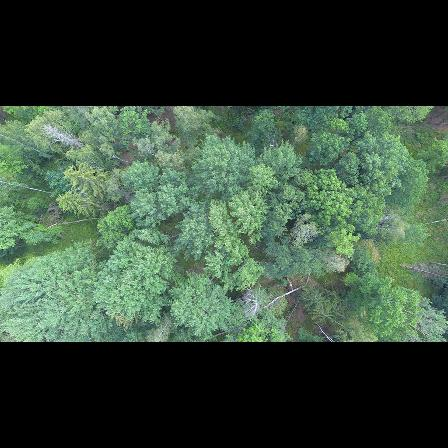Dead: (41, 123, 84, 152), (239, 284, 267, 319), (322, 252, 353, 276)
